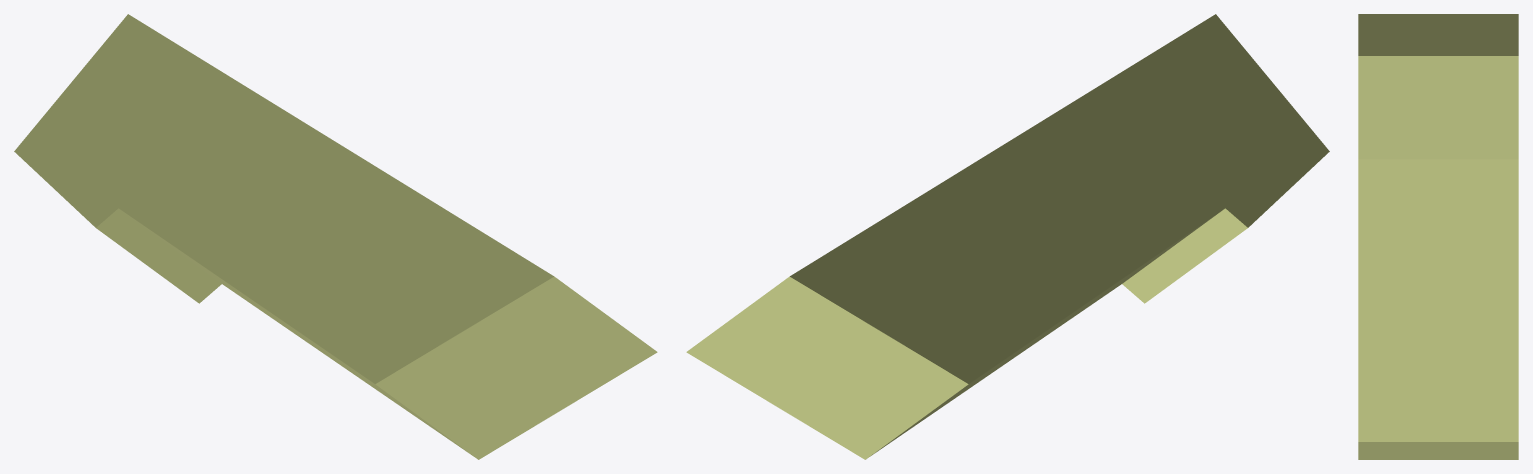
The picture shows the model from 3 angles, left to right: view 1: azimuth 30°, elevation 25°; view 2: azimuth 150°, elevation 25°; view 3: azimuth 270°, elevation 25°; orthographic projection. The views are drawn at different scales.
Visible parts, largest first — view 1: 0_0_1_1_2_3_1_0_1; view 2: 0_0_1_1_2_3_1_0_1; view 3: 0_0_1_1_2_3_1_0_1.
Boxes of the visible parts, x1=… form: 0_0_1_1_2_3_1_0_1: x1=14, y1=14, x2=657, y2=459; 0_0_1_1_2_3_1_0_1: x1=686, y1=14, x2=1329, y2=459; 0_0_1_1_2_3_1_0_1: x1=1358, y1=14, x2=1518, y2=459.
Size of the model in its own units: 18.09 by 13.78 by 6.
